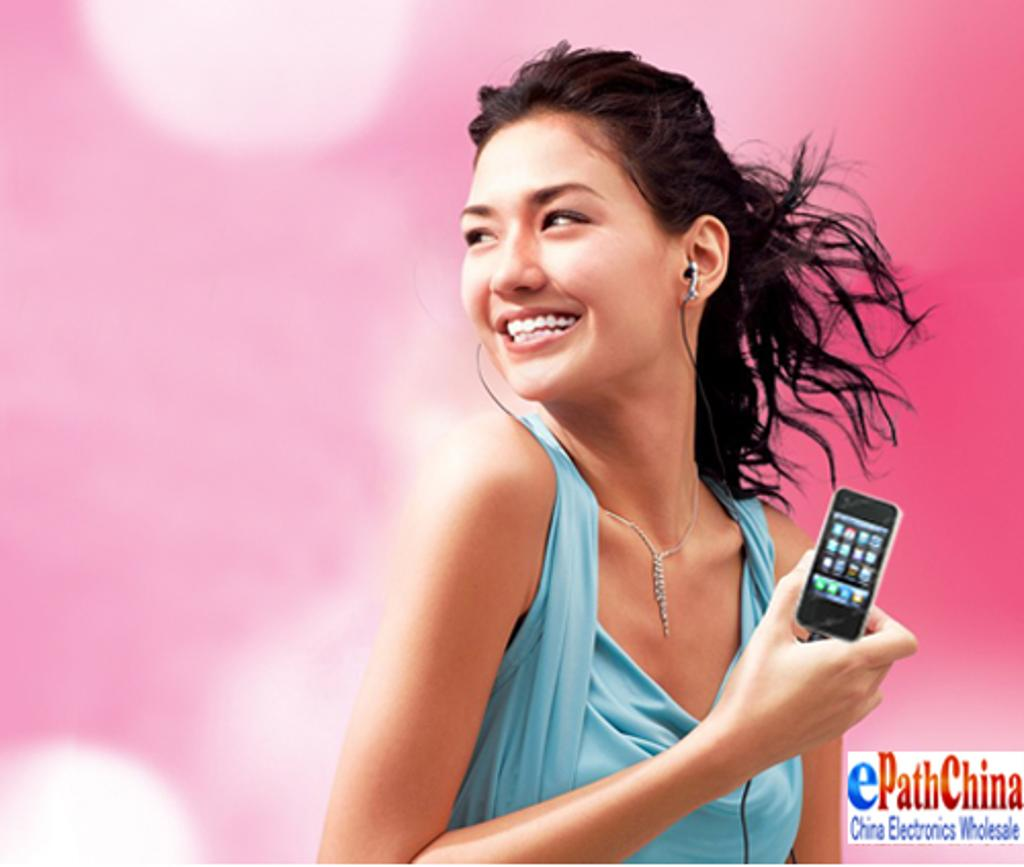face: (464, 104, 662, 396)
